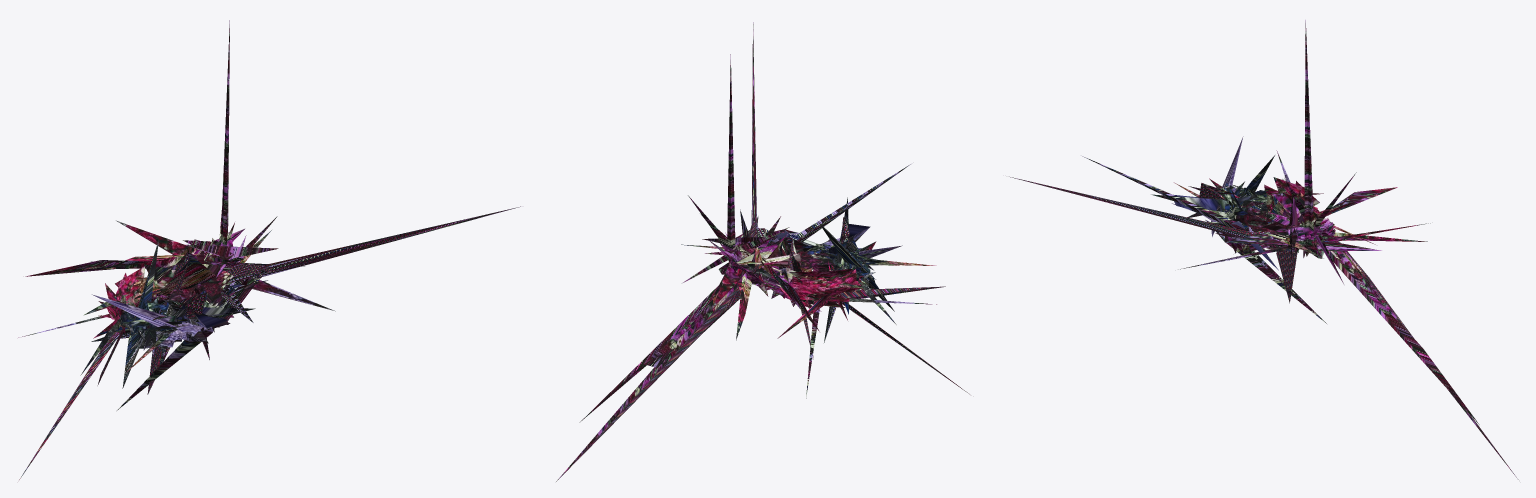
The model's file is Preso.gltf.
The picture shows the model from 3 angles, left to right: view 1: azimuth 30°, elevation 25°; view 2: azimuth 150°, elevation 25°; view 3: azimuth 270°, elevation 25°; orthographic projection. The views are drawn at different scales.
Visible parts, largest first — view 1: Torus; view 2: Torus; view 3: Torus.
Boxes of the visible parts, x1=… form: Torus: x1=18, y1=20, x2=520, y2=479; Torus: x1=556, y1=22, x2=969, y2=481; Torus: x1=1009, y1=20, x2=1518, y2=479.
Size of the model in its own units: 10.78 by 12.11 by 13.34.
Materials: 1 (1 with a texture image).
